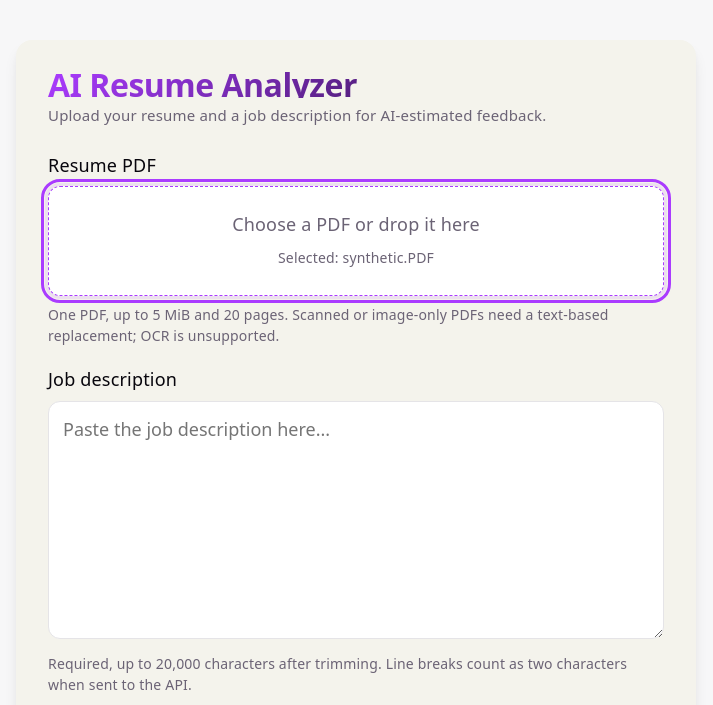
Scenario: ignores late responses after changed input and a newer request
Earlier steps of the test are not shown.
Step 1. Type "  Python developer  " into the text box labelled "Job description" → point(356, 520), box x1=48 y1=401 x2=664 y2=639
(page scrolled)
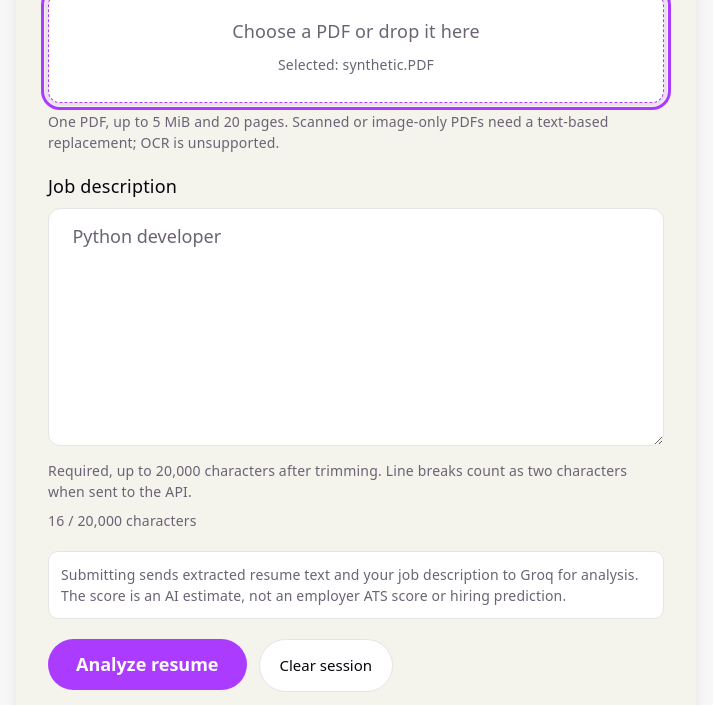
Step 2. Submit the form named "Analyze resume"
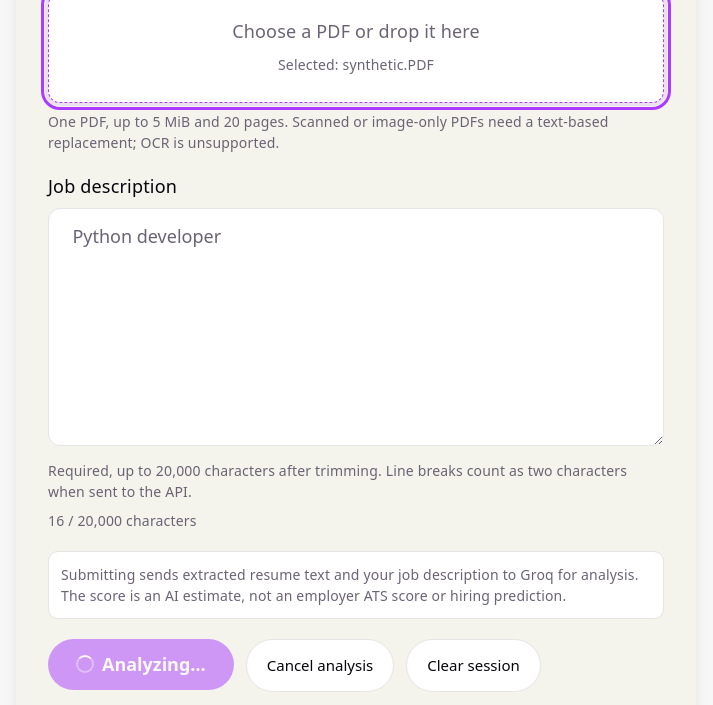
Step 3. Replace the text in the text box labelled "Job description" with "New job description" → point(356, 327), box x1=48 y1=208 x2=664 y2=446
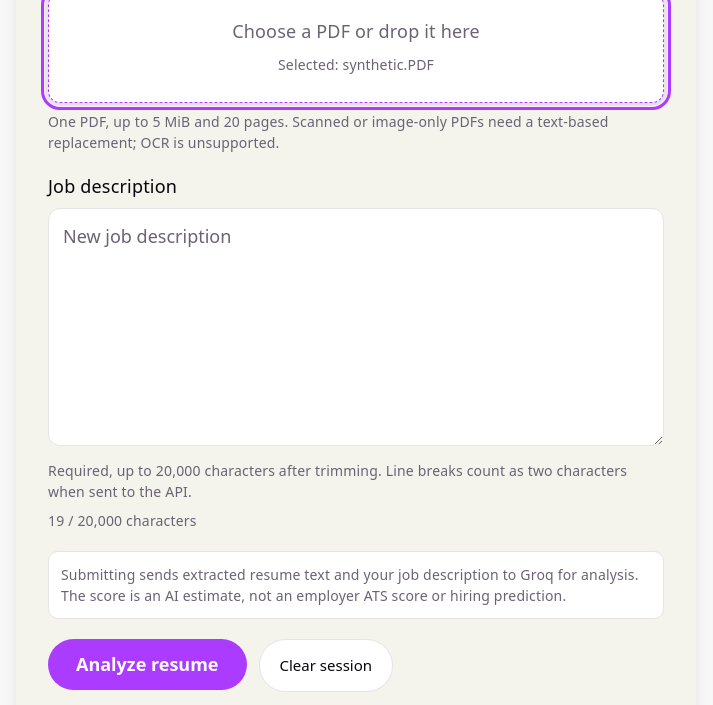
Step 4. Submit the form named "Analyze resume"
(page scrolled)
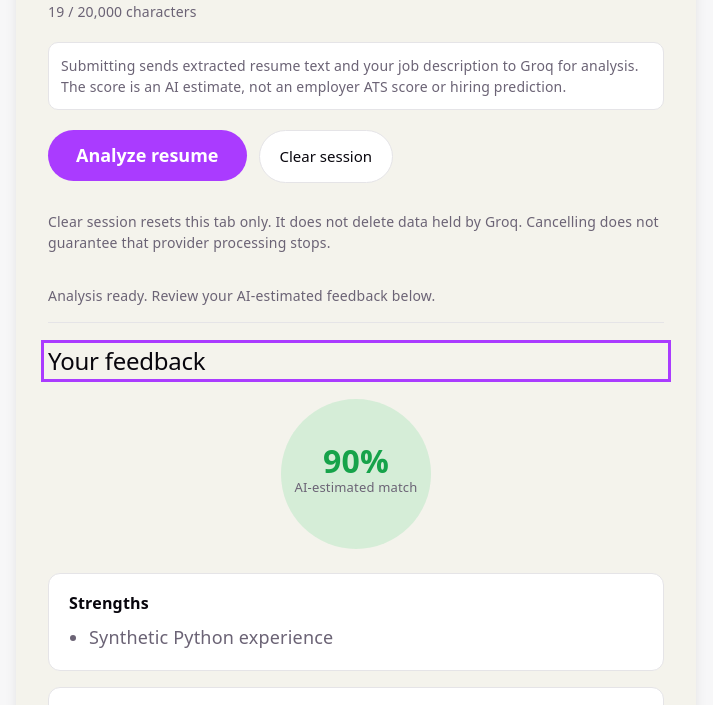
Check: the text "90%" is shown, box x1=323 y1=448 x2=389 y2=474
